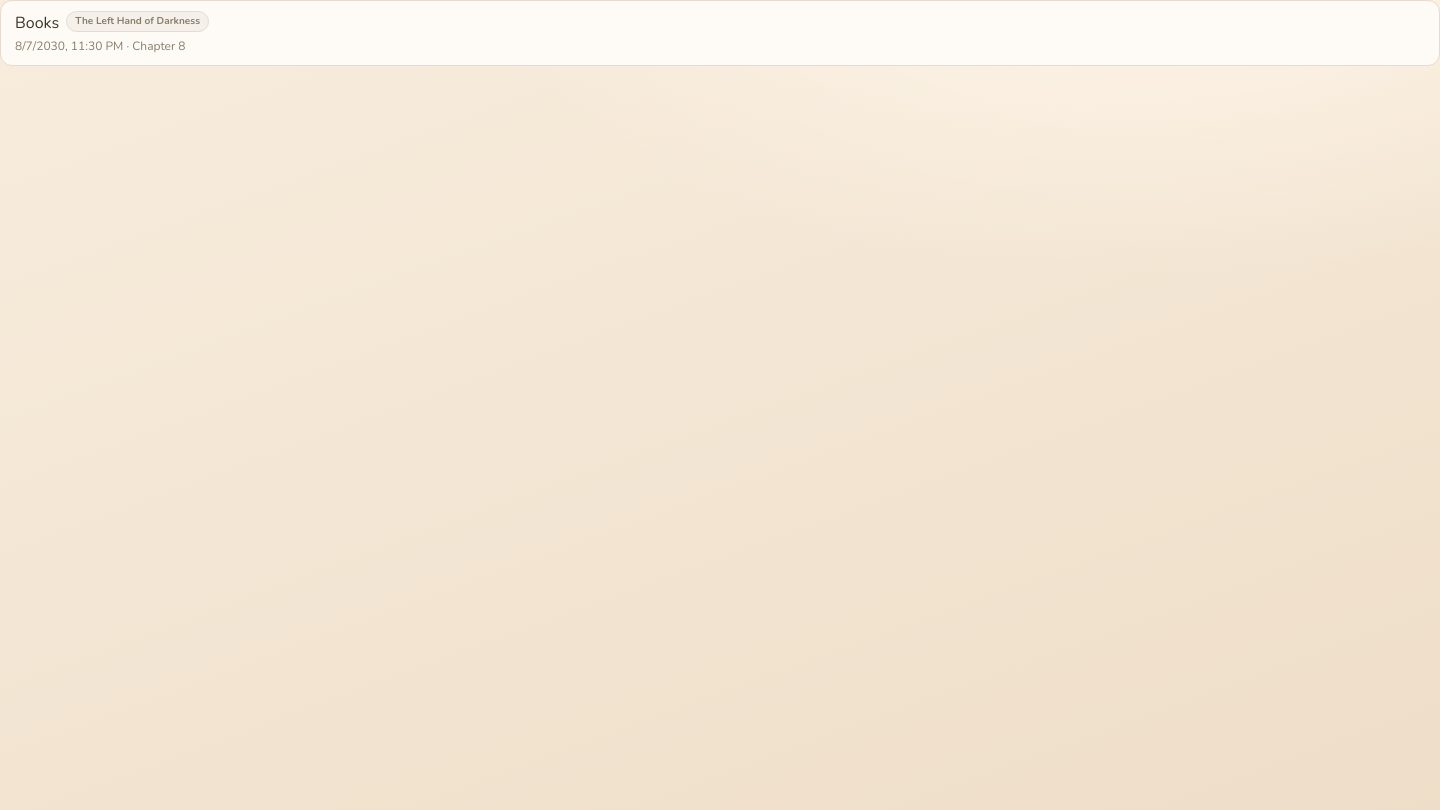
Test case: BookClubMeetingFeature › updates the viewer response inline
The image size is (1440, 810).
Click the button named "Open Book Club meeting for The Left Hand of Darkness, 8/7/20": click(720, 33) [15,11,1425,55]
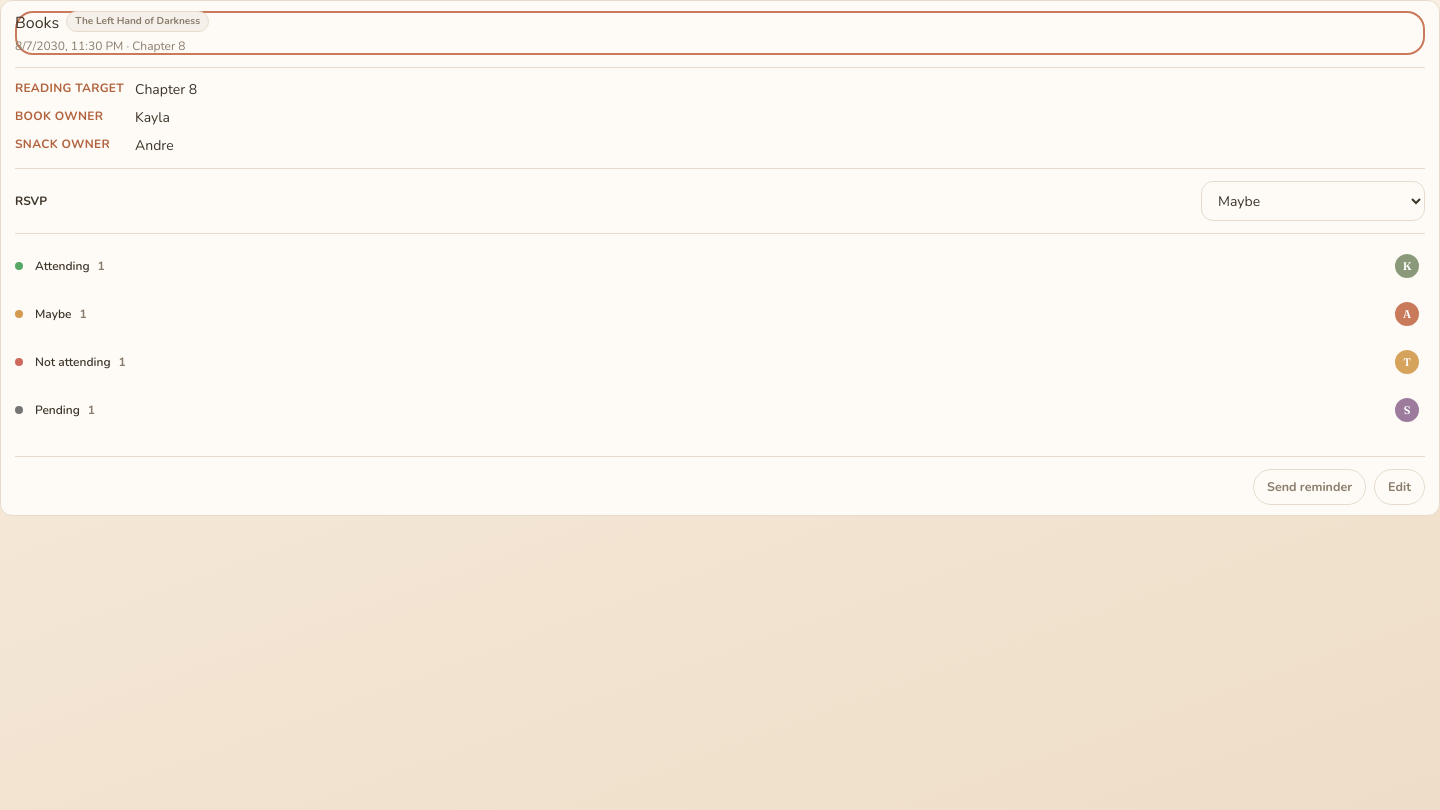
Select "Attending" in the dropdown labelled "RSVP": (1313, 201) [1201,181,1425,221]
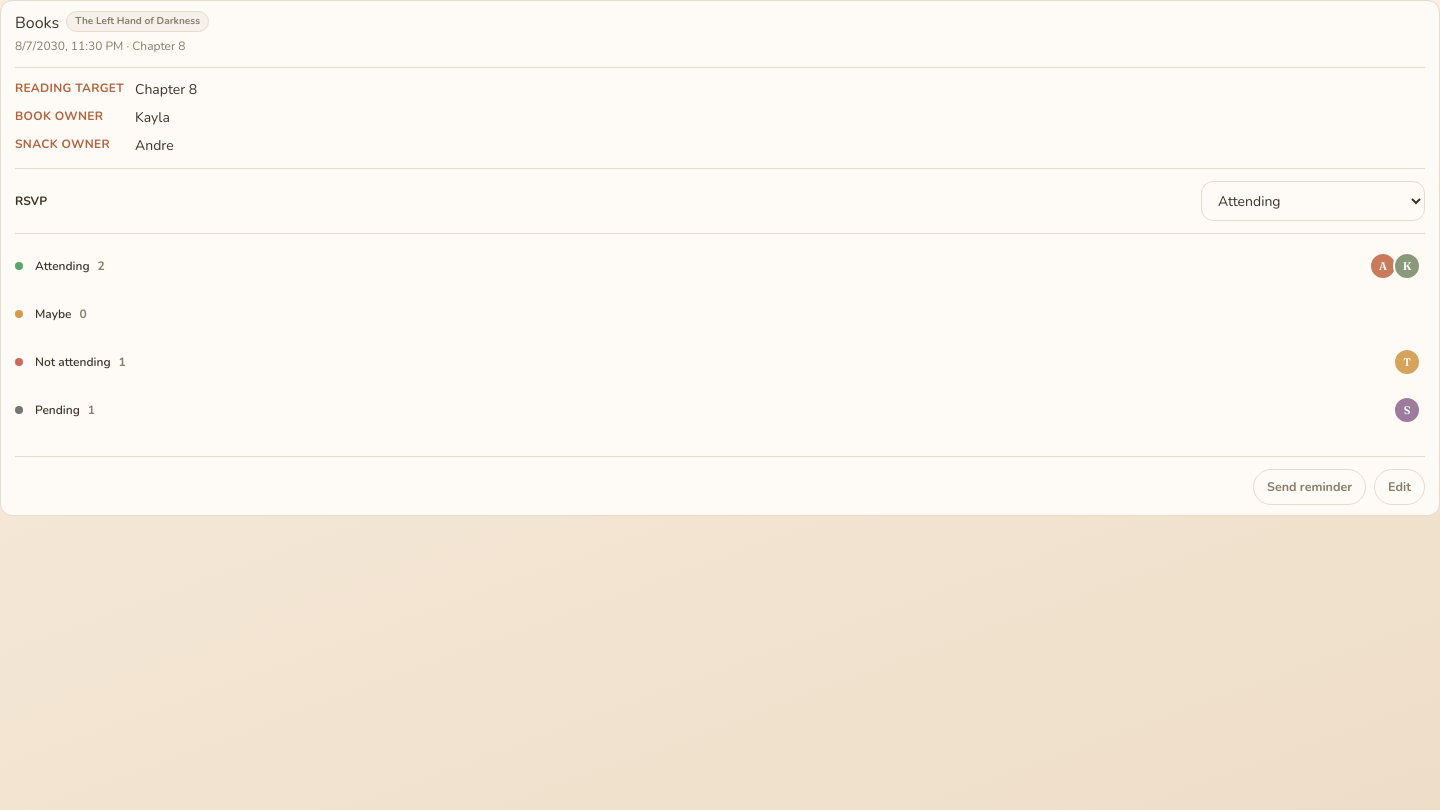
Result: the button named "View 2 people marked attending" is shown
Result: the element named "Maybe: 0" reads "Maybe 0" at [15,306,87,322]
Click the button named "View 2 people marked attending": click(1395, 266) [1365,248,1425,284]
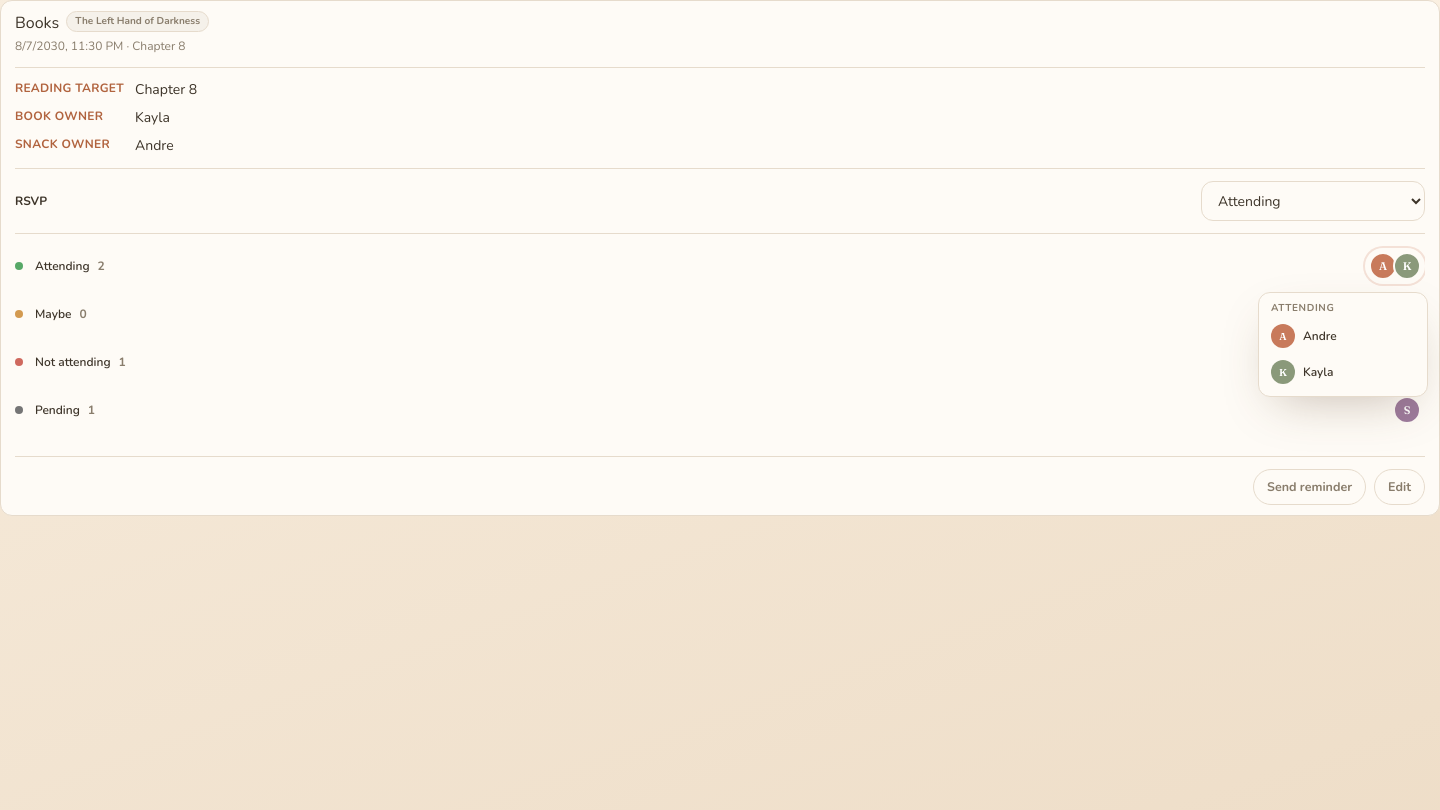
Result: the dialog named "Attending members" shows "Andre" at [1303,328,1337,344]
